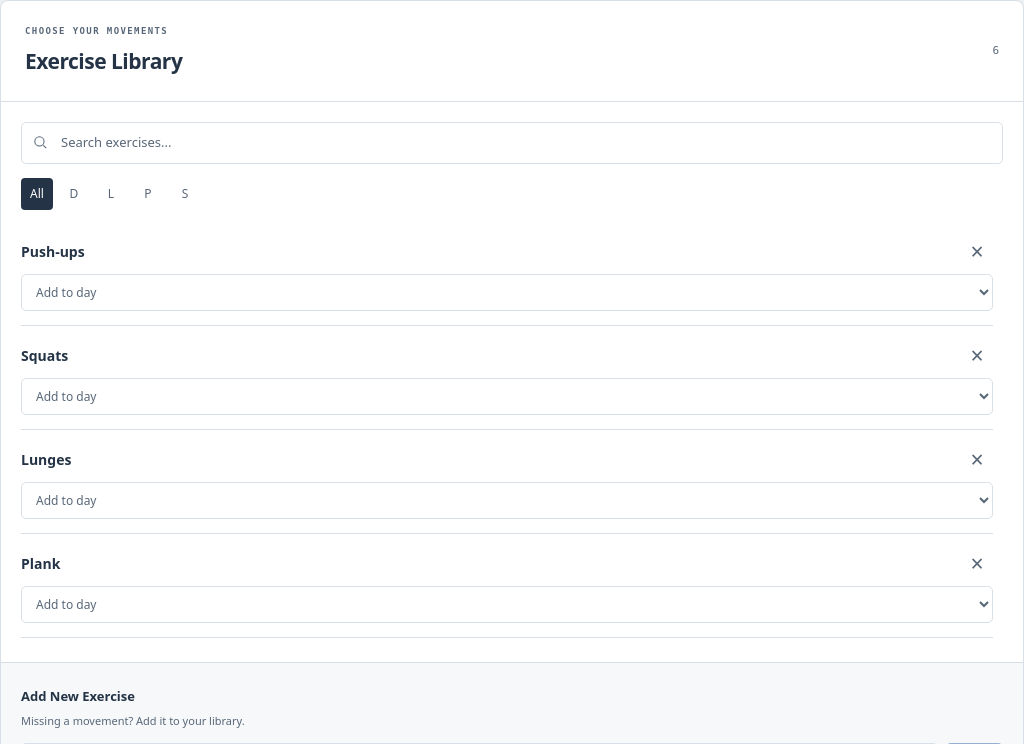
it: clearing an empty search restores the library and search focus
The image size is (1024, 744).
Step 1. Type "not-a-movement" into the search field labelled "Search exercises" → (526, 143), box left=49, top=123, right=1002, bottom=162
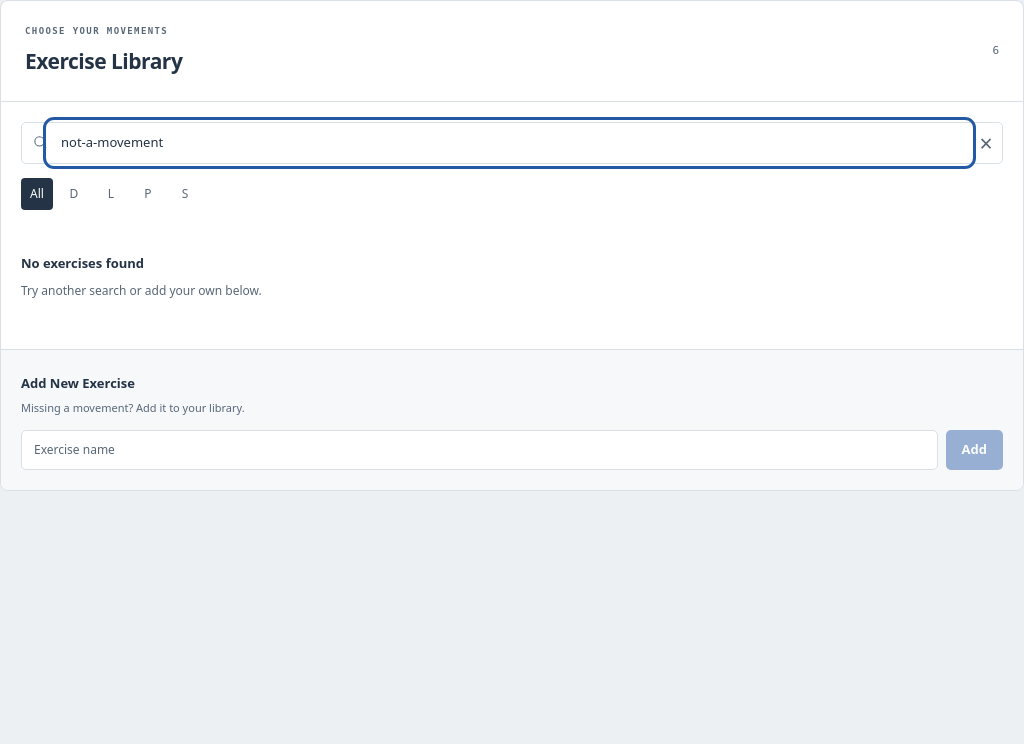
Result: the text "No exercises found" is shown at left=21, top=254, right=144, bottom=272
Step 2. Click the button named "Clear search" → (986, 143), box left=970, top=127, right=1002, bottom=159
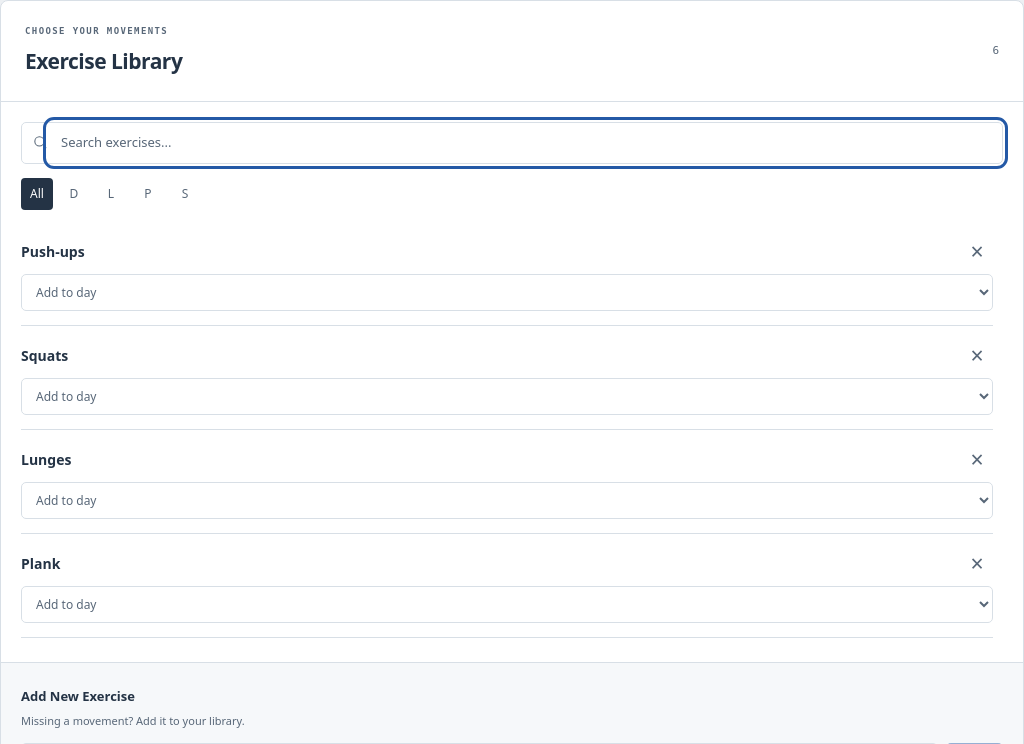
Result: the search field labelled "Search exercises" is empty at left=49, top=123, right=1002, bottom=162
Result: the text "Squats" is shown at left=21, top=345, right=68, bottom=366
